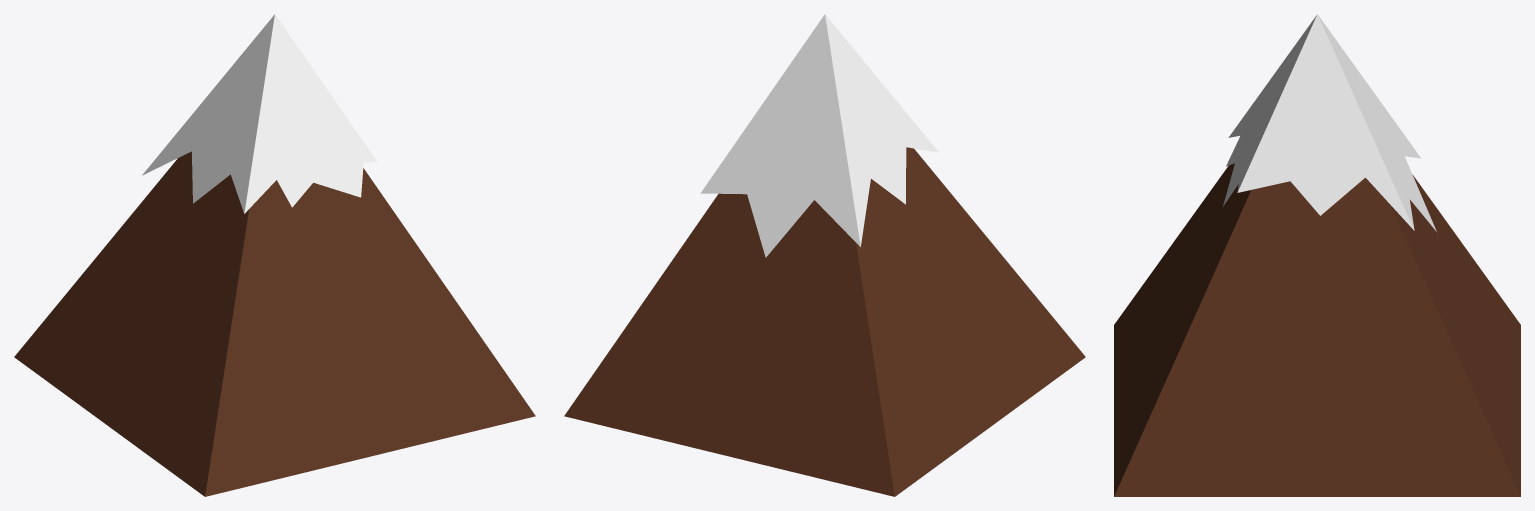
Rendered from mountain new.FBX.
3 views of the same model, side by side, from view 1: azimuth 30°, elevation 25°; view 2: azimuth 150°, elevation 25°; view 3: azimuth 270°, elevation 25° (orthographic). The views are drawn at different scales.
Visible parts, largest first — view 1: mountain, mountain-snow; view 2: mountain, mountain-snow; view 3: mountain, mountain-snow.
Part boxes in pixels (x1,y1,x2,y2): mountain: [14, 151, 535, 496]; mountain-snow: [142, 14, 377, 213]; mountain: [564, 147, 1085, 496]; mountain-snow: [700, 14, 938, 257]; mountain: [1114, 163, 1520, 496]; mountain-snow: [1223, 14, 1436, 231].
Size of the model in its own units: 463 by 463 by 498.
